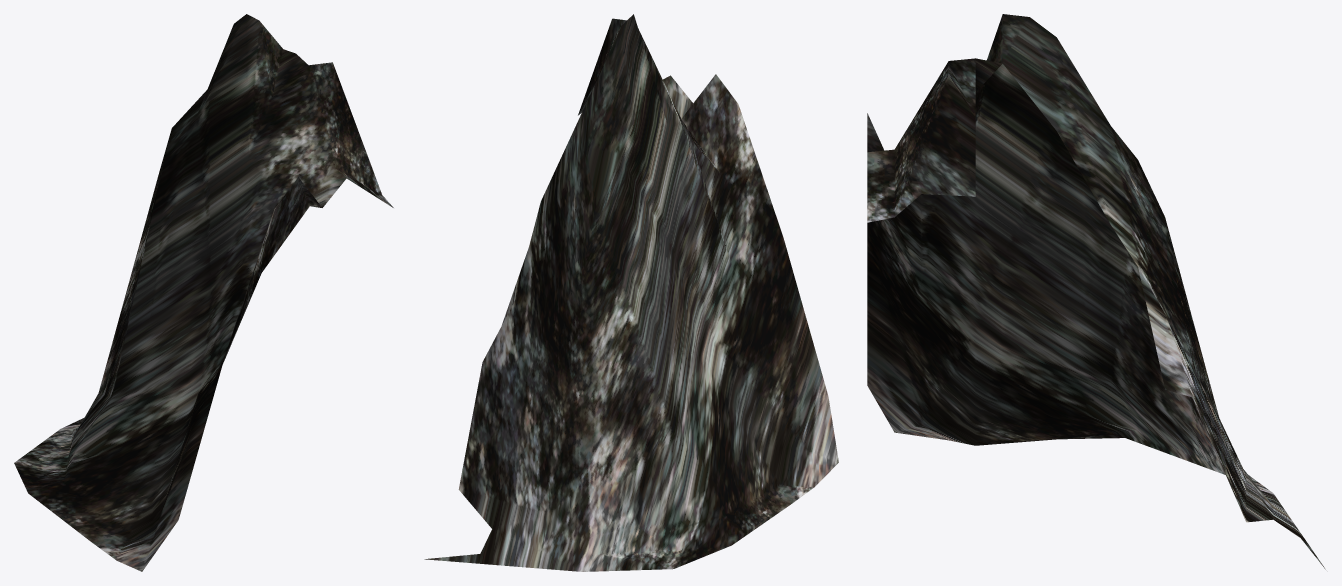
Rendered from OVERHILL_A_01_OBJECT27.fbx.
3 views of the same model, side by side, from view 1: azimuth 30°, elevation 25°; view 2: azimuth 150°, elevation 25°; view 3: azimuth 270°, elevation 25° (orthographic). The views are drawn at different scales.
Parts seen in each view (by area): view 1: OVERHILL_A_01_OBJECT27; view 2: OVERHILL_A_01_OBJECT27; view 3: OVERHILL_A_01_OBJECT27.
Boxes of the visible parts, bbox=[...] form: OVERHILL_A_01_OBJECT27: bbox=[14, 14, 393, 571]; OVERHILL_A_01_OBJECT27: bbox=[424, 14, 838, 571]; OVERHILL_A_01_OBJECT27: bbox=[867, 14, 1325, 569].
Bounding box in the file's own units: 136475 × 264419 × 211909.
1 material, 1 textured.
